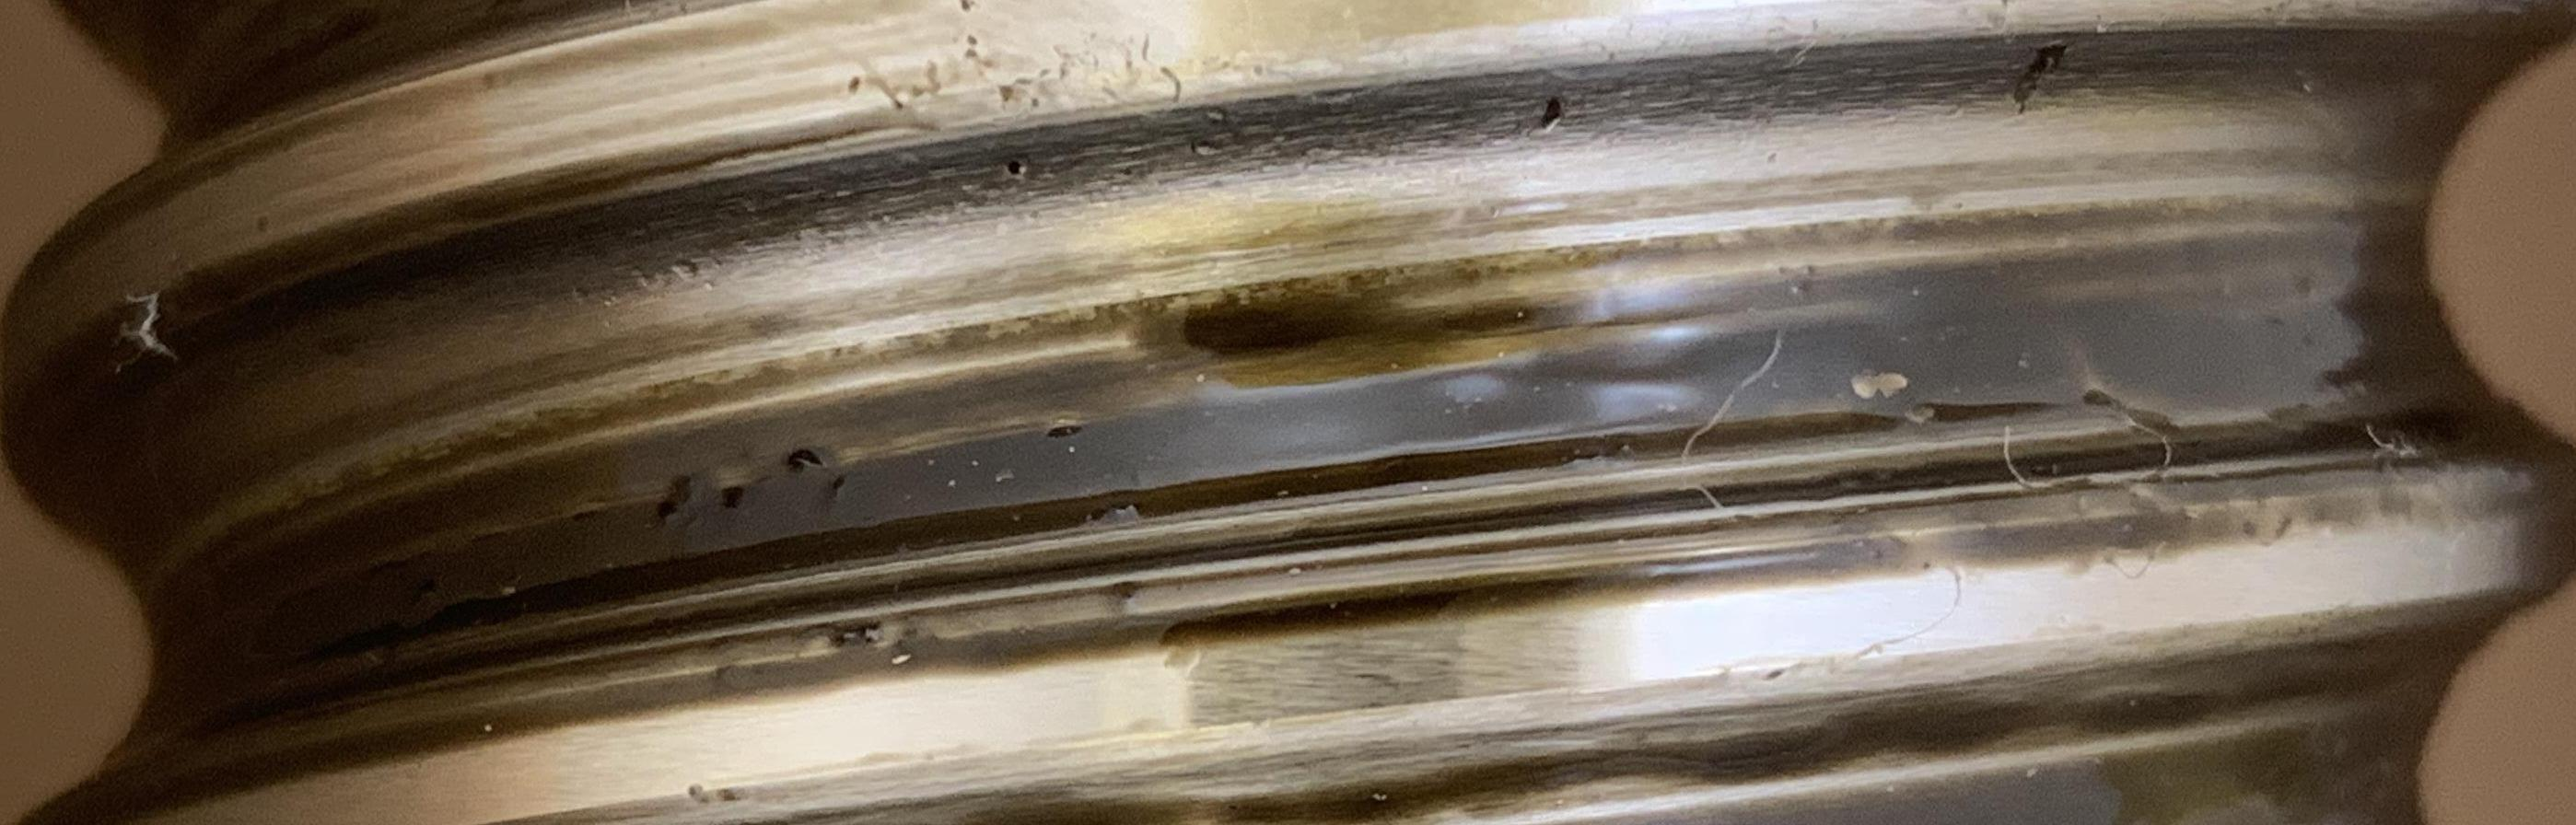pitting: (2011, 43, 2065, 115), (1539, 97, 1561, 128), (1009, 159, 1022, 174)
